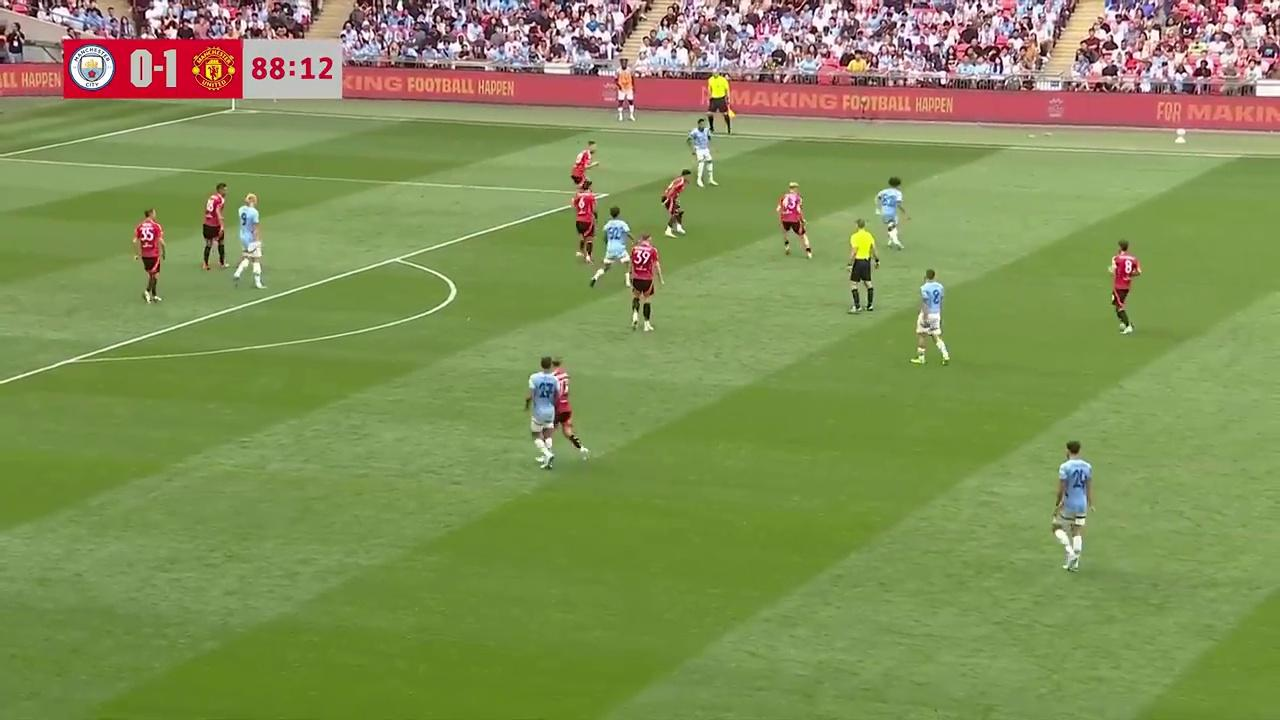player: (1052, 442, 1094, 569), (909, 268, 951, 366), (540, 354, 577, 463), (626, 231, 664, 333), (523, 358, 557, 470), (524, 354, 555, 469), (590, 206, 632, 287), (231, 191, 265, 288), (133, 208, 166, 304), (1109, 239, 1141, 334), (775, 182, 812, 258), (875, 176, 910, 251), (596, 206, 633, 270), (201, 183, 227, 271), (572, 182, 597, 263), (689, 120, 719, 187), (660, 170, 689, 237), (570, 141, 598, 203)
referee: (845, 219, 879, 313), (704, 66, 732, 137)
